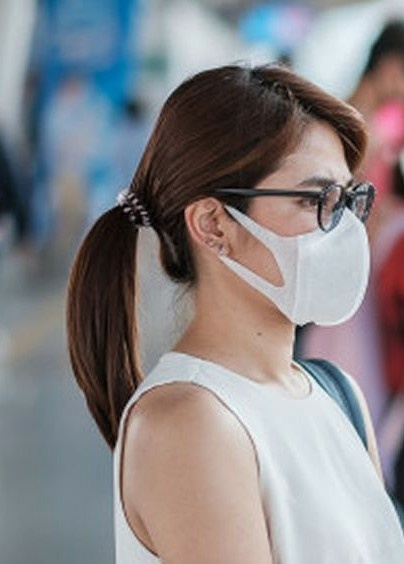with_mask: (146, 84, 386, 353)
